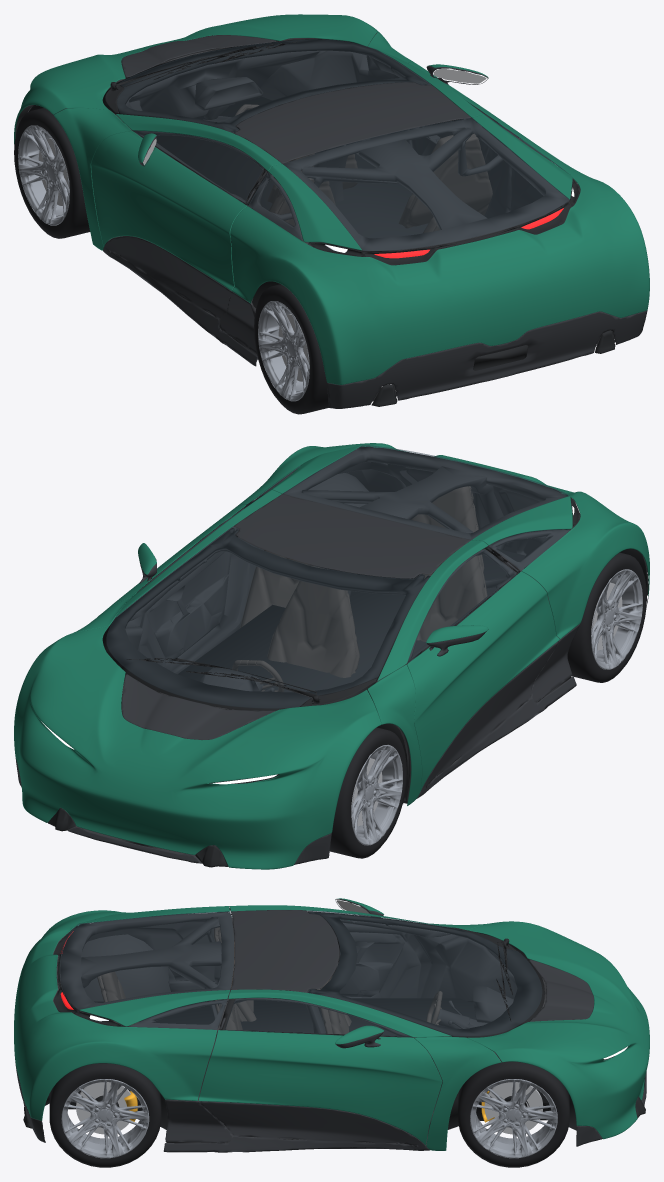
The model's file is orion_rs.glb.
3 views of the same model, one above another, from view 1: azimuth 30°, elevation 25°; view 2: azimuth 150°, elevation 25°; view 3: azimuth 270°, elevation 25° (orthographic). The views are drawn at different scales.
Visible parts, largest first — view 1: Body_Shell, Body_Trim, Body_Glass, Body_Interior, Tire_FL, Tire_RL; view 2: Body_Shell, Body_Glass, Body_Trim, Body_Interior, Tire_FL, Tire_RL; view 3: Body_Shell, Body_Glass, Body_Trim, Body_Interior, Tire_FR, Tire_RR.
Boxes of the visible parts, x1,y1,x2,y2 form: Body_Shell: (14, 14, 649, 384); Body_Trim: (28, 35, 647, 408); Body_Glass: (117, 39, 569, 250); Body_Interior: (15, 33, 618, 401); Tire_FL: (14, 108, 90, 238); Tire_RL: (254, 284, 328, 414); Body_Shell: (14, 443, 649, 869); Body_Glass: (106, 445, 569, 708); Body_Trim: (15, 446, 648, 867); Body_Interior: (65, 446, 648, 866); Tire_FL: (329, 727, 406, 858); Tire_RL: (567, 552, 646, 682); Body_Shell: (14, 898, 649, 1150); Body_Glass: (59, 910, 541, 1037); Body_Trim: (15, 899, 646, 1152); Body_Interior: (53, 912, 645, 1149); Tire_FR: (458, 1059, 569, 1167); Tire_RR: (49, 1063, 161, 1167).
Size of the model in its own units: 2.26 by 1.11 by 4.22.
